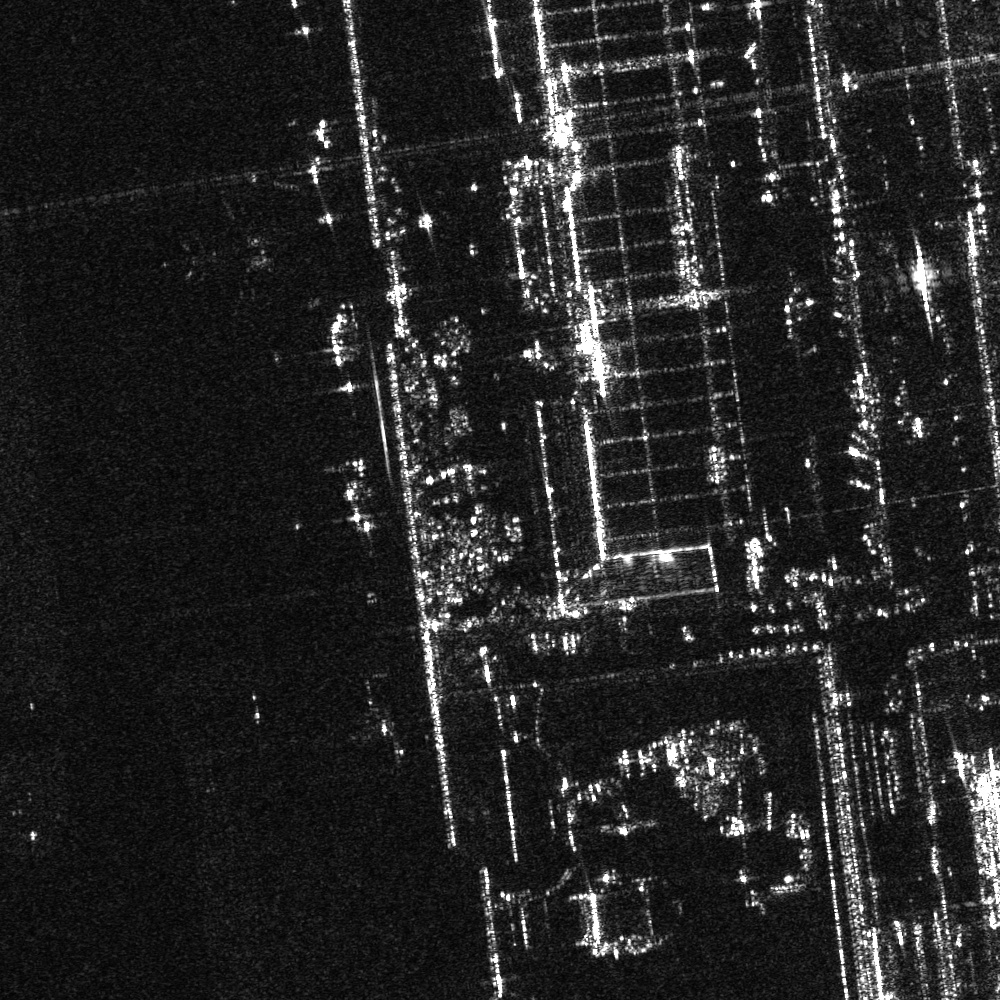Boeing787: (162, 202, 291, 311)
